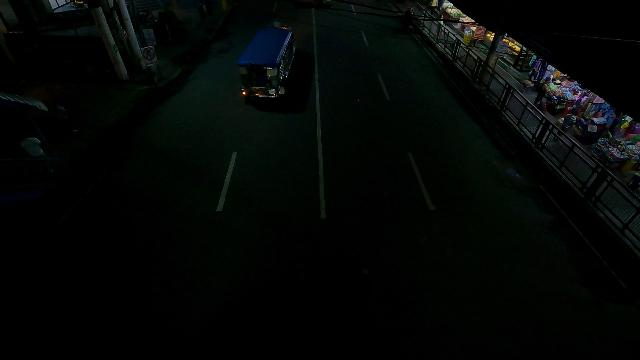jeepney: (237, 25, 295, 100)
